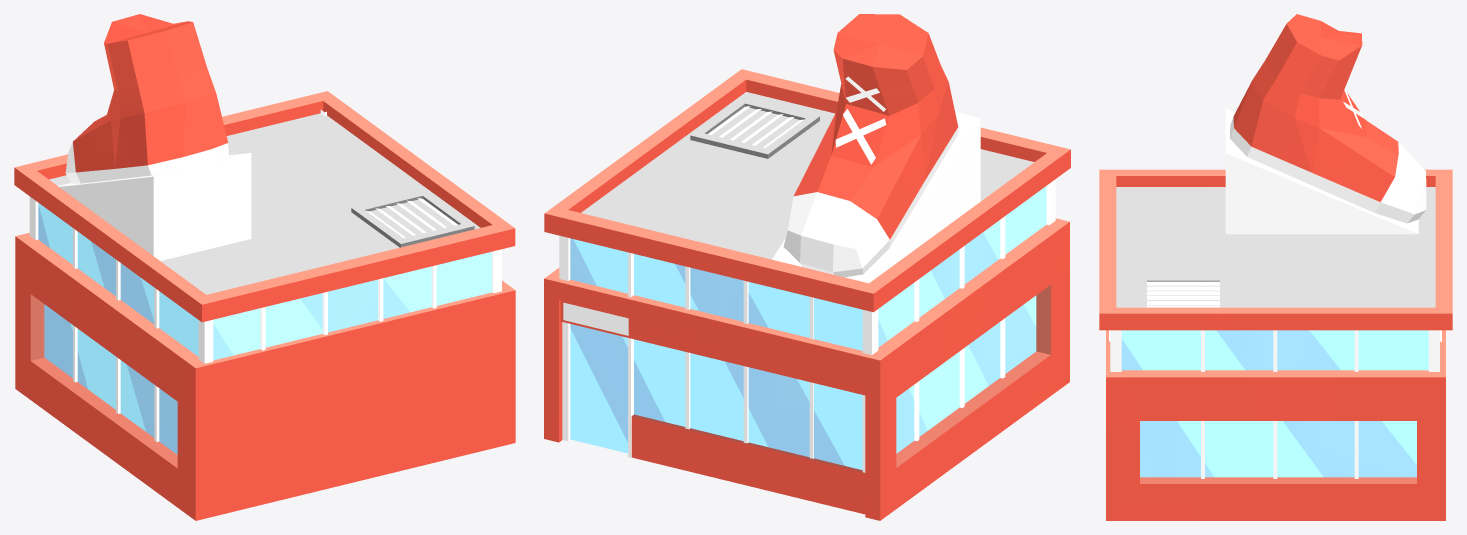
Rendered from services.004.glb.
The picture shows the model from 3 angles, left to right: view 1: azimuth 30°, elevation 25°; view 2: azimuth 150°, elevation 25°; view 3: azimuth 270°, elevation 25°; orthographic projection. The views are drawn at different scales.
Visible parts, largest first — view 1: services.004(Clone); view 2: services.004(Clone); view 3: services.004(Clone).
Part boxes in pixels (x1,y1,x2,y2): services.004(Clone): (14,14,515,520); services.004(Clone): (544,14,1070,520); services.004(Clone): (1099,14,1452,520).
Size of the model in its own units: 5.93 by 7.2 by 6.03.
Materials: 1 (1 with a texture image).
